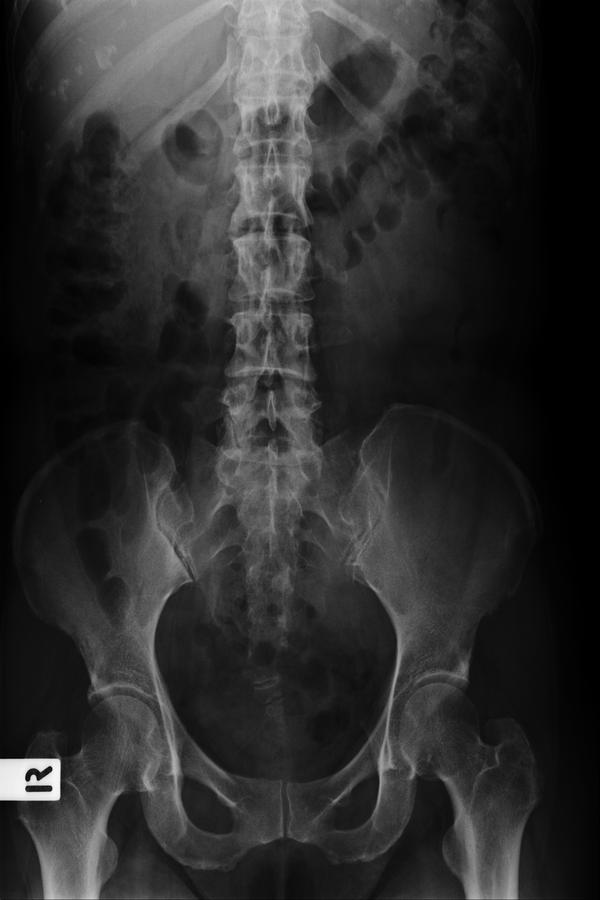not lumbar scoliosis: (219, 167, 320, 524)
